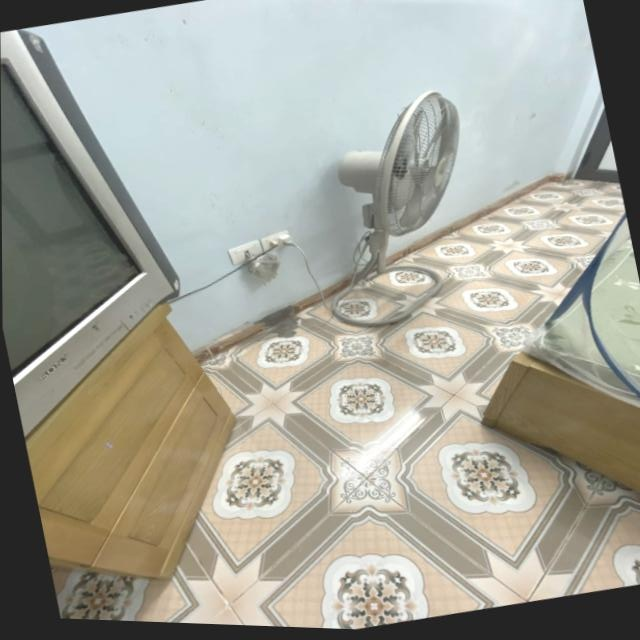outlet: (226, 238, 266, 267), (261, 227, 295, 254)
